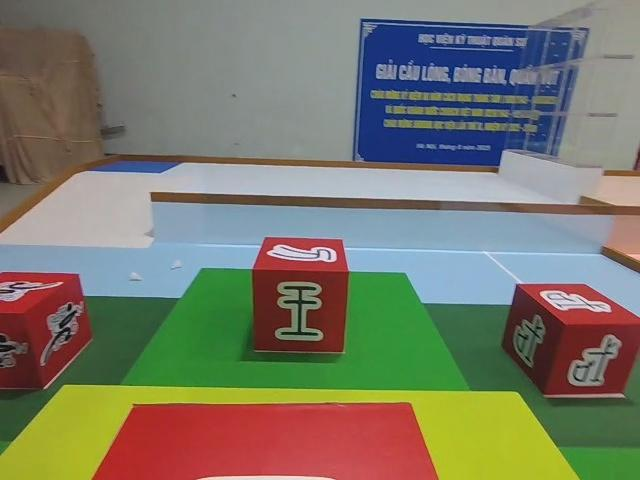R1: (0, 268, 94, 394)
R2 Fake: (248, 235, 351, 352)
R2 Real: (504, 277, 640, 402)
